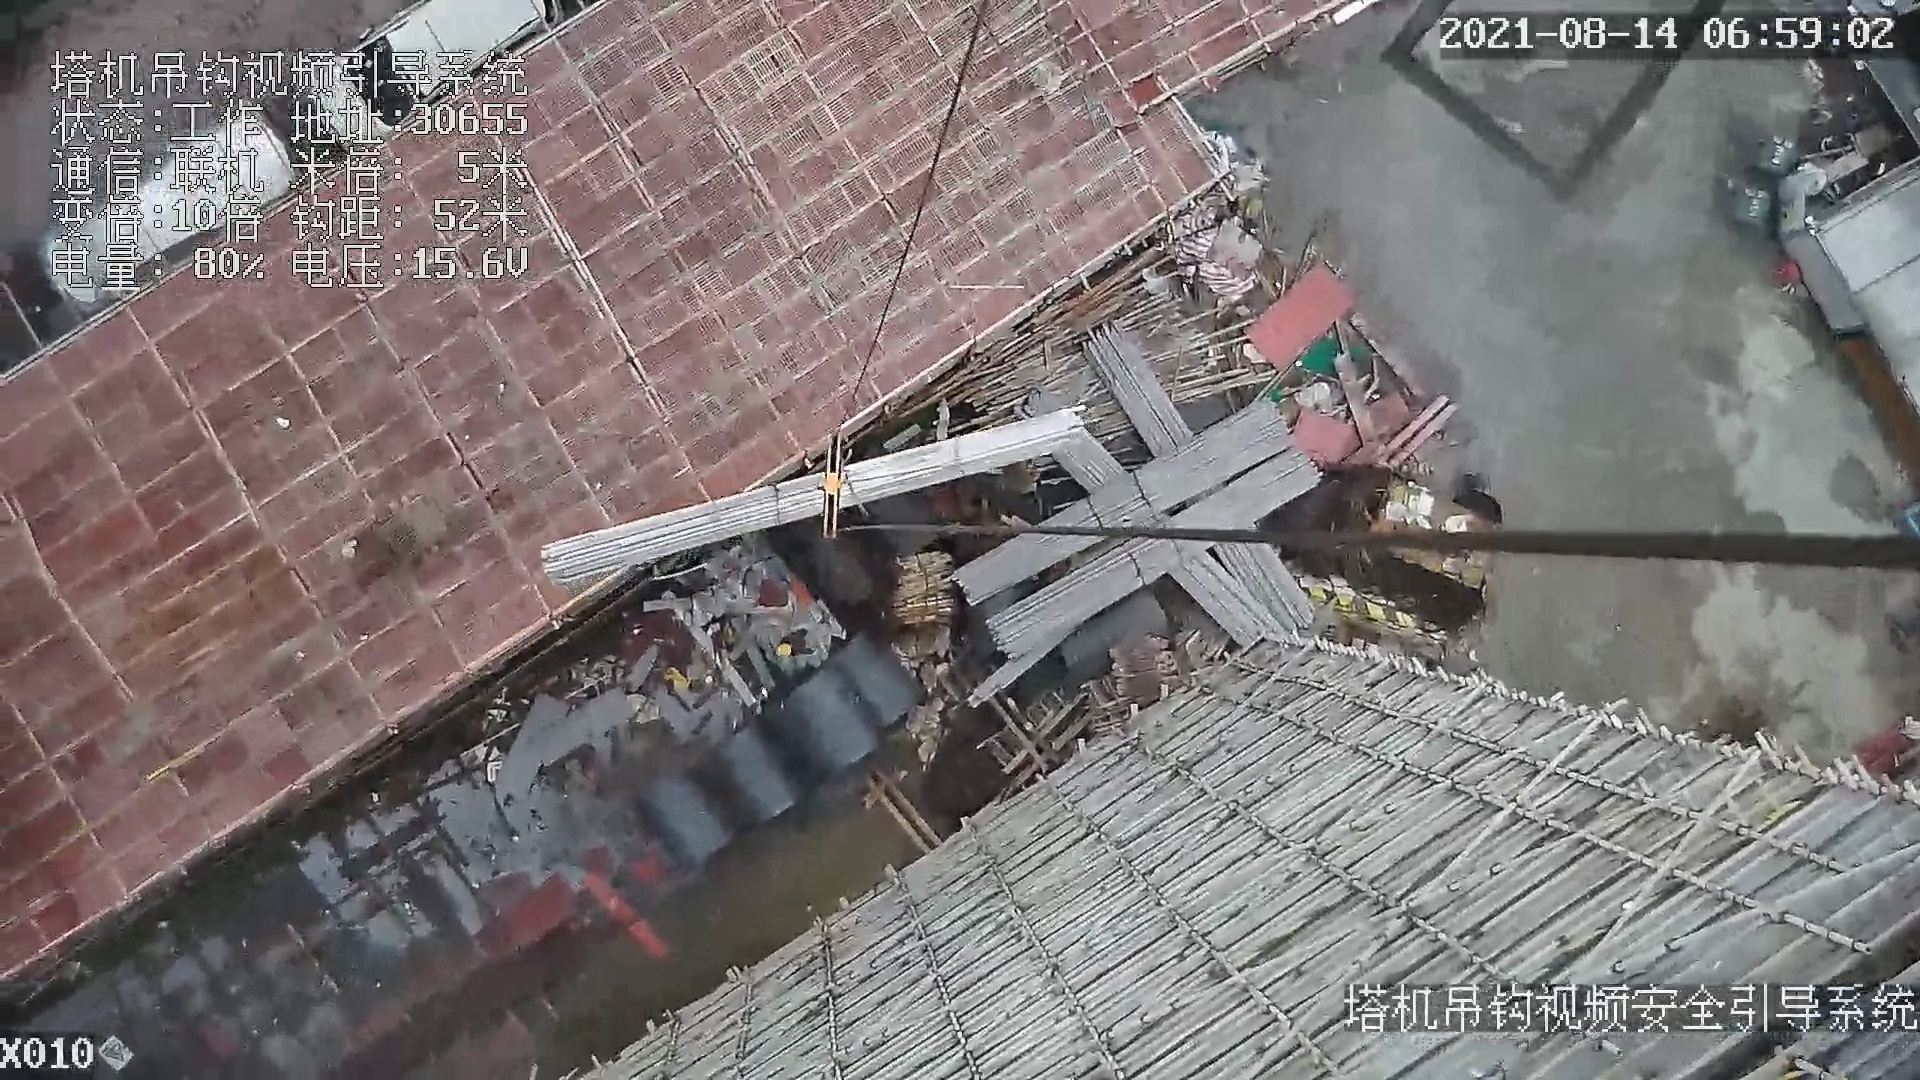helmet: (777, 644, 792, 656)
hook: (815, 428, 847, 540)
person: (776, 632, 812, 659)
rebar: (538, 404, 1082, 584), (1081, 324, 1315, 635), (985, 449, 1321, 657), (954, 403, 1296, 604), (1171, 554, 1266, 646)
wood: (890, 553, 953, 624)
